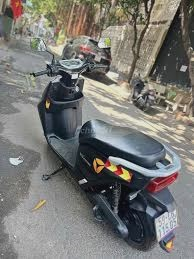Bien-so: (147, 201, 175, 238)
